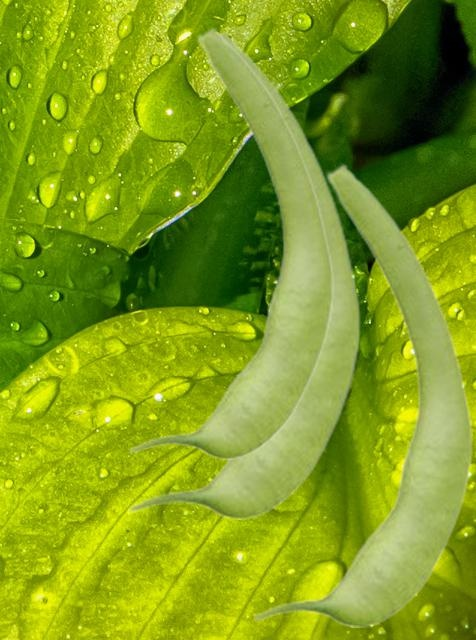french_bean: (126, 28, 361, 518), (251, 161, 473, 626), (127, 25, 334, 458)
